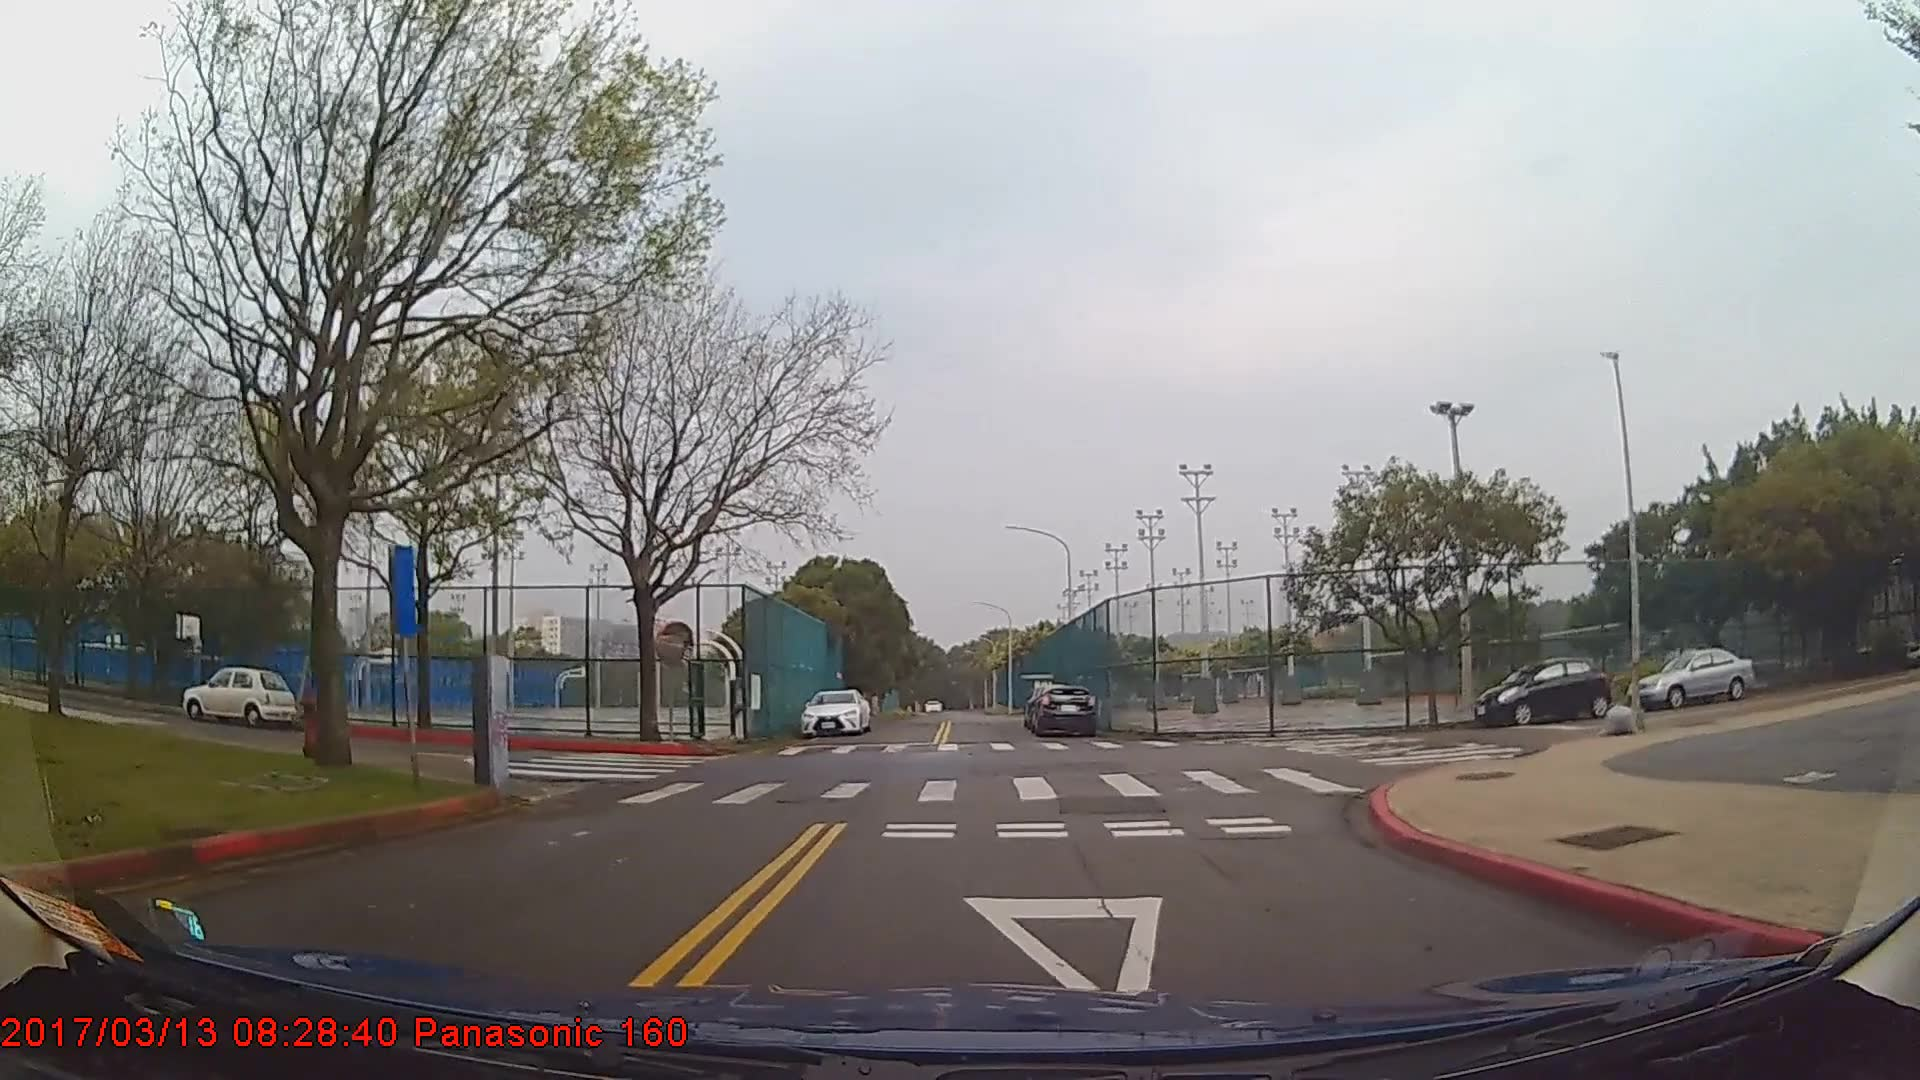vehicle: (1472, 655, 1610, 725), (1626, 644, 1756, 709), (178, 665, 294, 727), (1025, 682, 1095, 738), (798, 688, 869, 737)
